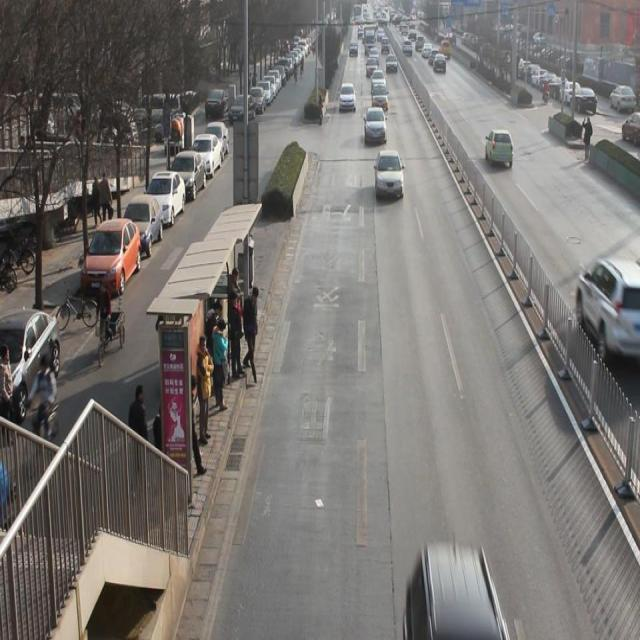car: (577, 254, 640, 362), (372, 148, 406, 206), (484, 128, 516, 172), (363, 106, 388, 145), (338, 81, 358, 116), (370, 84, 390, 108)
